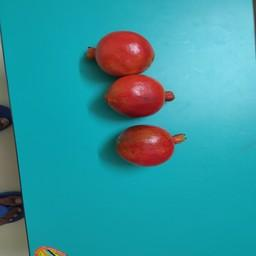pomegranate: (114, 124, 187, 167), (86, 30, 155, 75), (104, 74, 176, 116)
